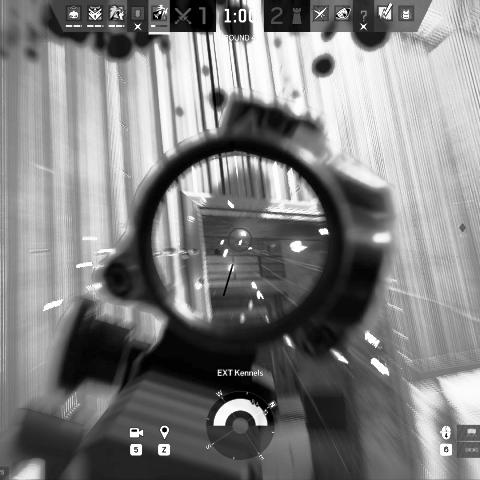Character: (214, 247, 222, 255)
